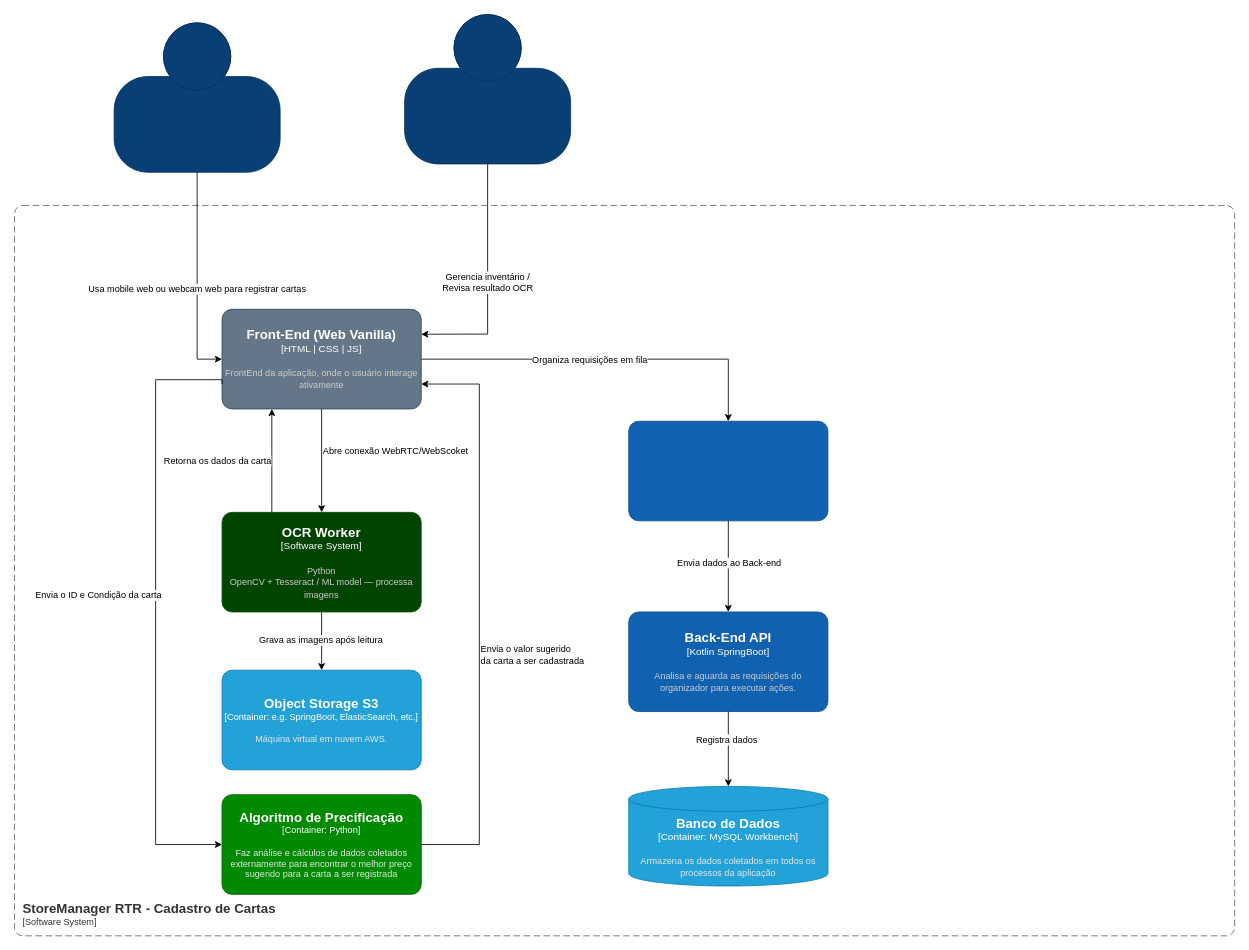
Image size: 1249x950. Some labels were removed from this diagram. The centre of each missing label's shape, as x and y in pixels:
Administrador [Person] Usuário Administrador do sistema: (x=487, y=89)
RabbitMQ [Software System] Gerencia as filas de cadastro: (x=728, y=470)
Scanner [Person] Mobile Web ou Desktop Web: (x=196, y=97)
